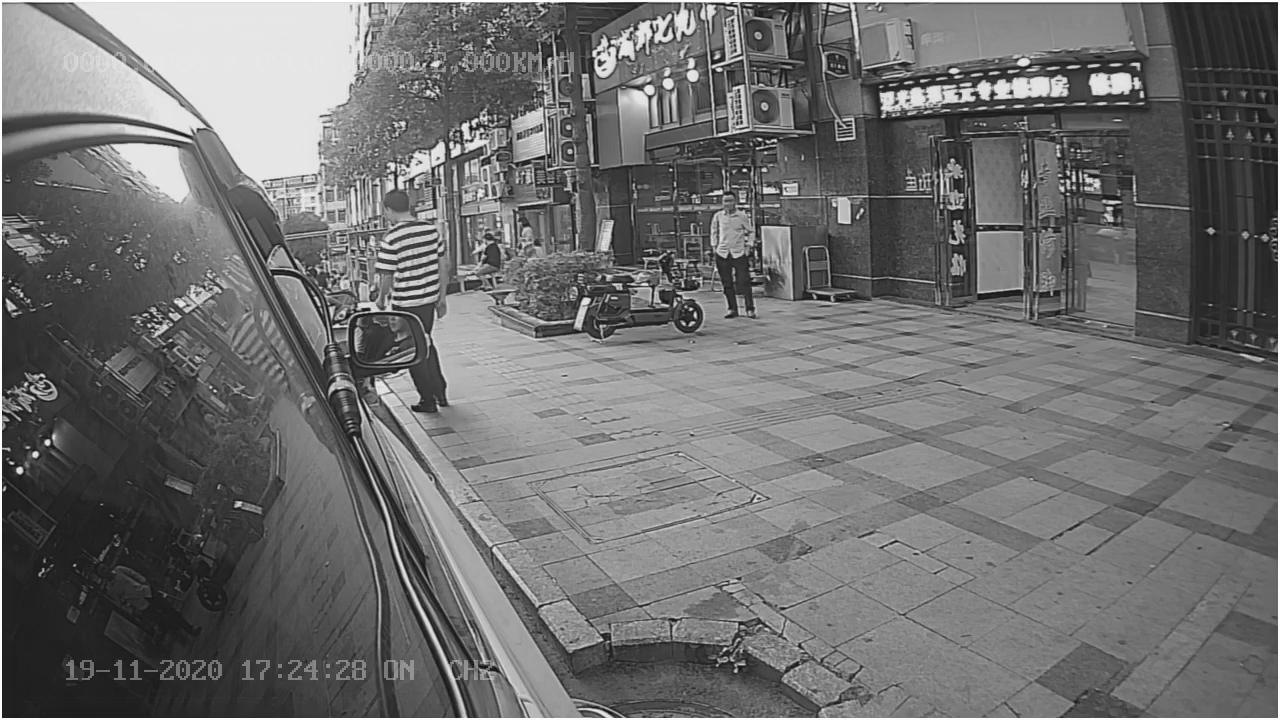person: (373, 184, 457, 415)
